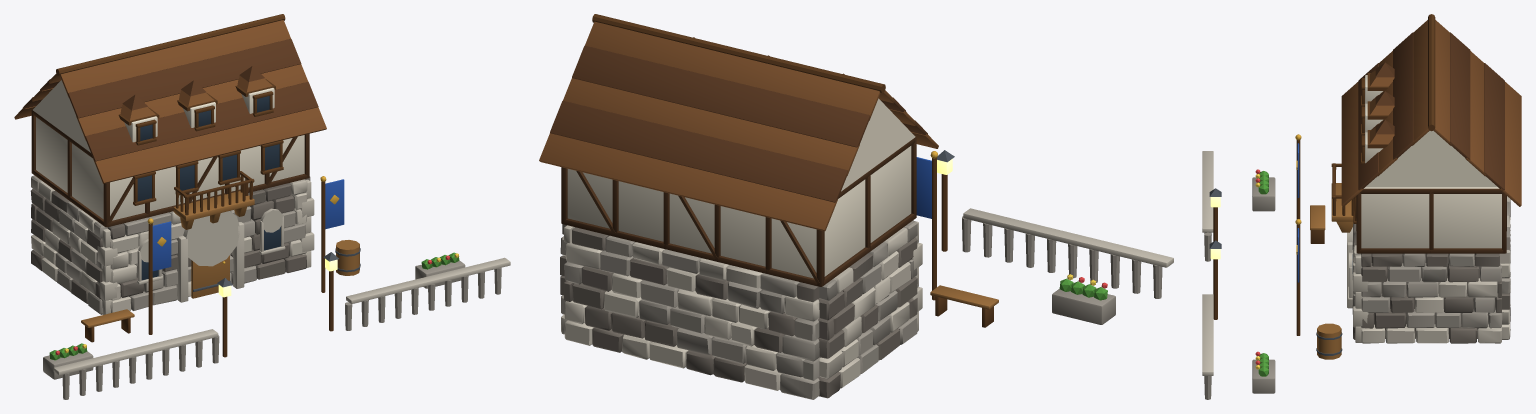
File: budynek_glowny_poz12.glb
The picture shows the model from 3 angles, left to right: view 1: azimuth 30°, elevation 25°; view 2: azimuth 150°, elevation 25°; view 3: azimuth 270°, elevation 25°; orthographic projection. The views are drawn at different scales.
Parts seen in each view (by area): view 1: budynek_glowny_poz12; view 2: budynek_glowny_poz12; view 3: budynek_glowny_poz12.
Boxes of the visible parts, box(x1,y1,x2,y2) form: budynek_glowny_poz12: box(14, 14, 510, 399); budynek_glowny_poz12: box(539, 14, 1173, 399); budynek_glowny_poz12: box(1202, 14, 1521, 399).
Size of the model in its own units: 13.6 by 6.42 by 8.3.
